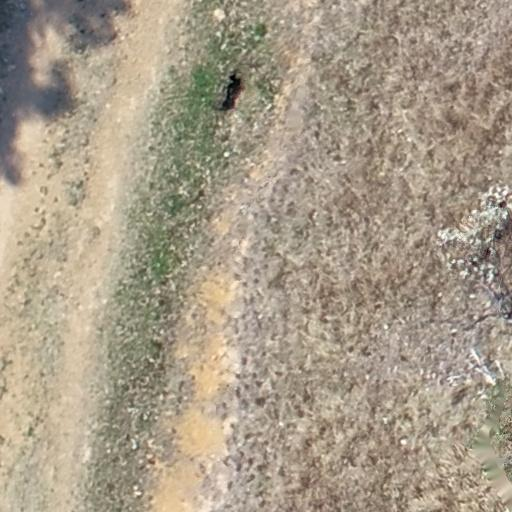stone: (468, 256, 494, 279), (486, 183, 510, 205), (128, 439, 142, 458), (398, 436, 411, 454), (214, 4, 226, 22), (134, 484, 143, 500), (220, 150, 231, 162)
